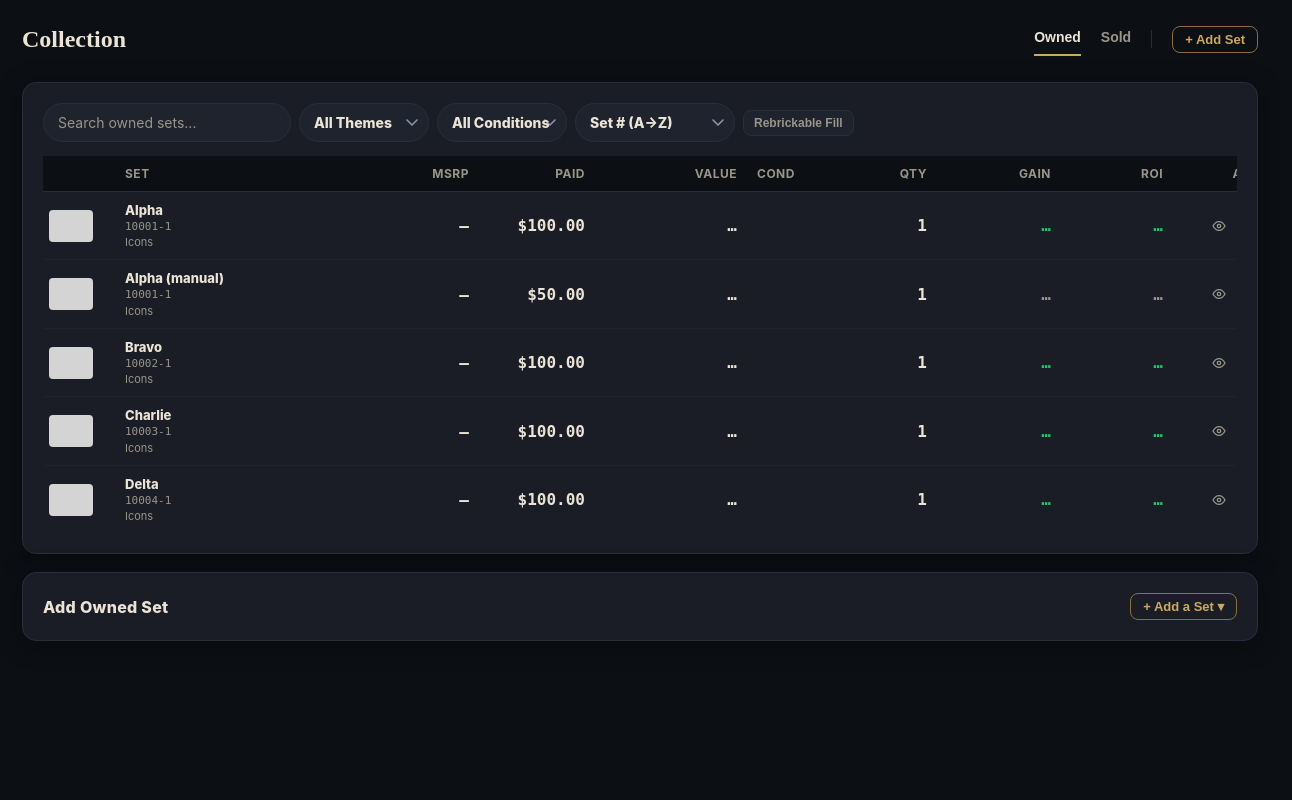
Test: Phase 3 selection — composite key (source::setNumber) › a BE set and a manual set sharing a setNumber select INDEPENDENTLY (bare setNumber would conflate)
Click the row "Alpha 10001-1 Icons — $100.00 … 1 … …".
click(662, 226)  # box [43,192,1280,260]
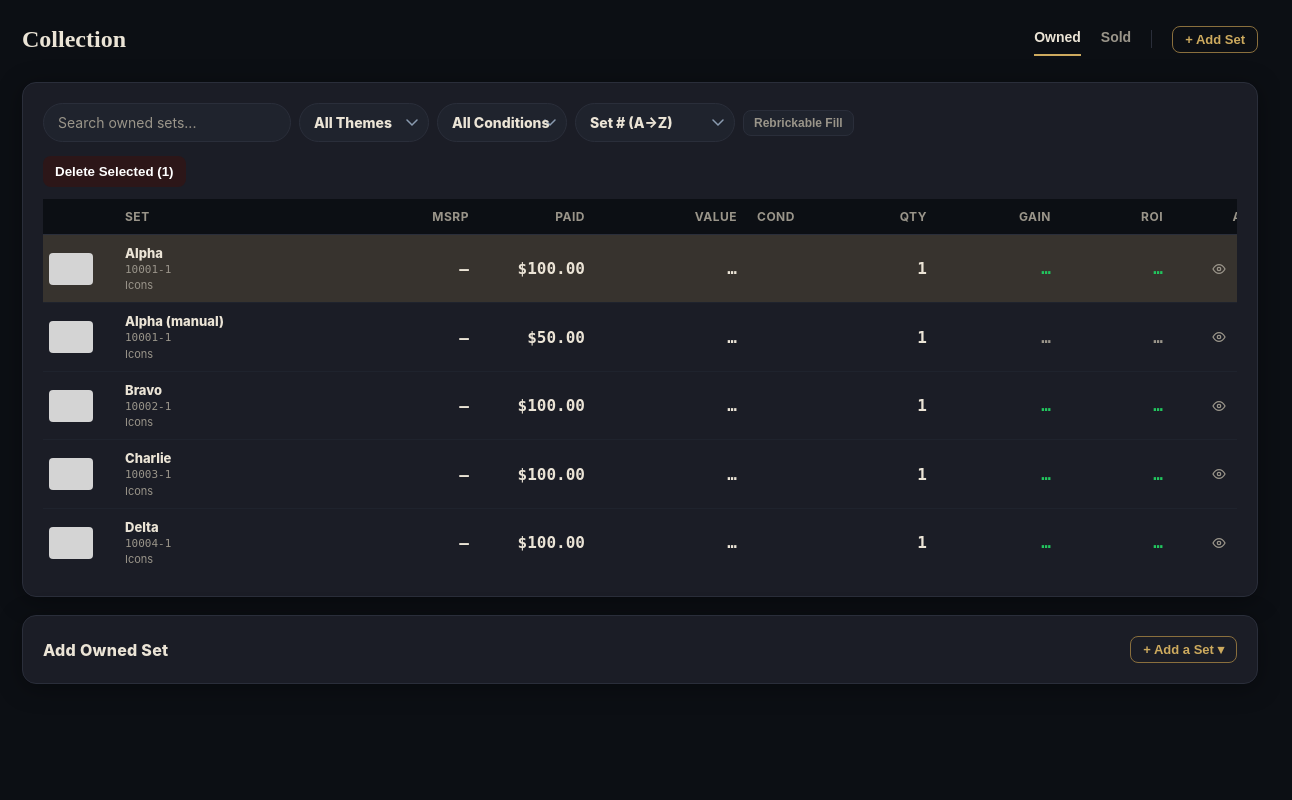
Click the row "Alpha (manual) 10001-1 Icons — $50.00 … 1 … …".
click(662, 337)  # box [43,303,1280,372]
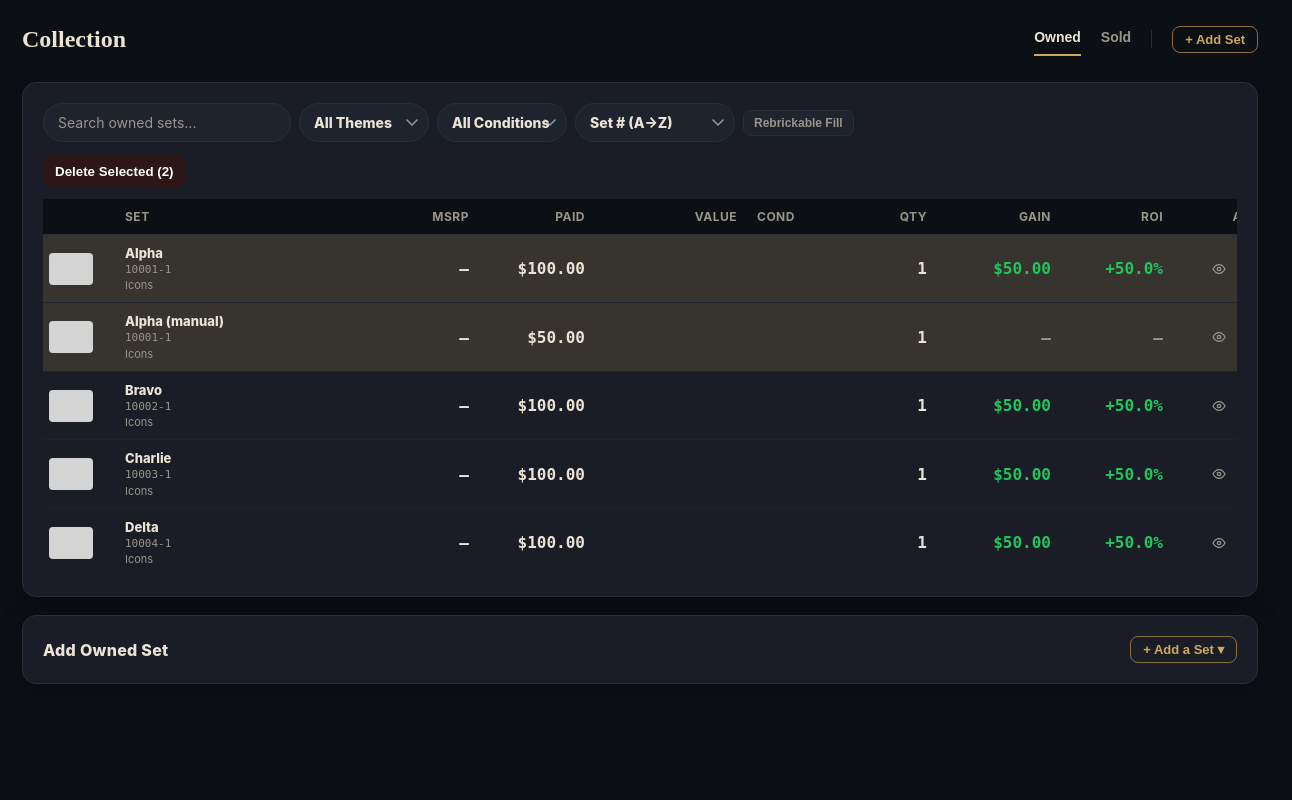
Expected: the text "Delete Selected (2)" is shown, [43,156,186,187]
